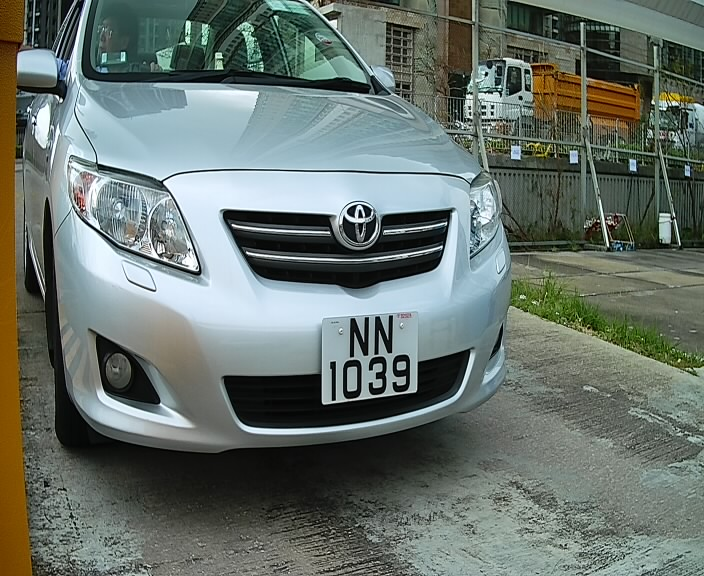Car: (2, 2, 552, 483)
License Plate: (312, 302, 433, 416)
